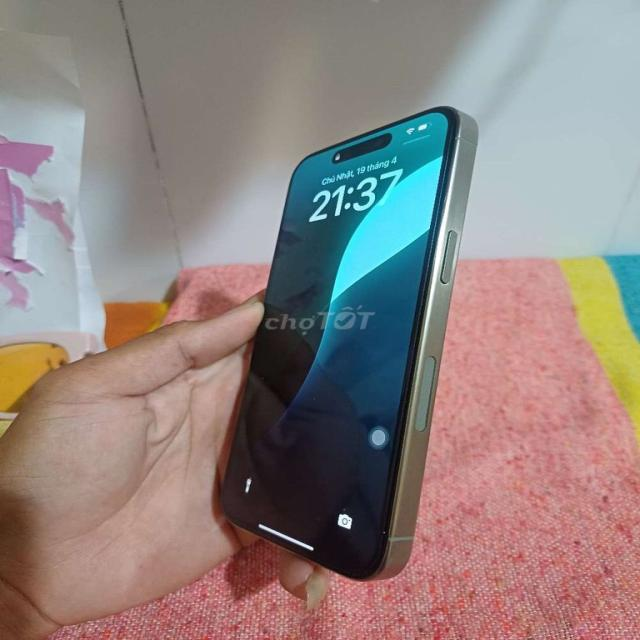gen_15: (215, 91, 468, 596)
